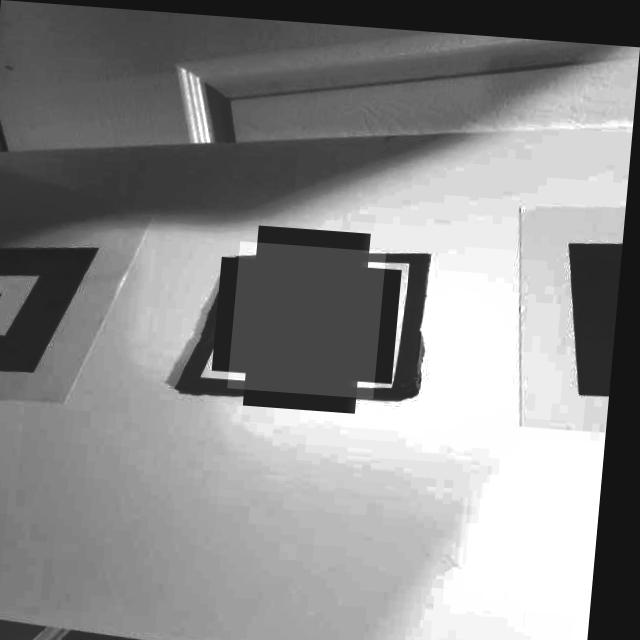qr_code: (233, 237, 389, 393)
